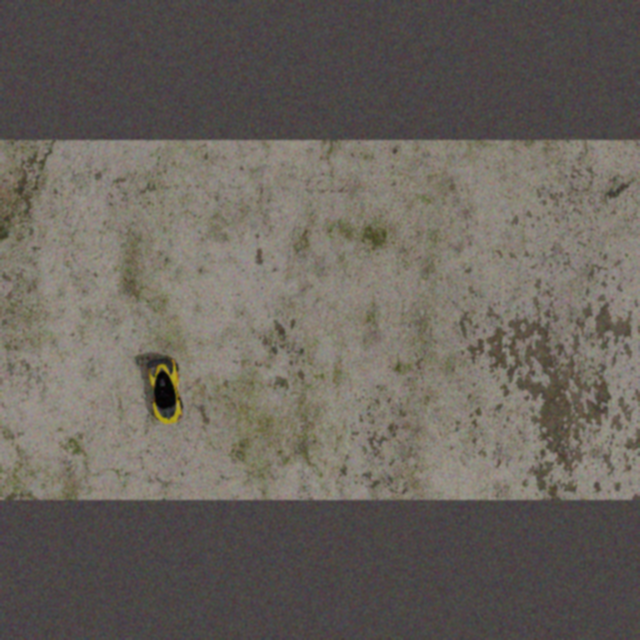car: (144, 355, 186, 427)
